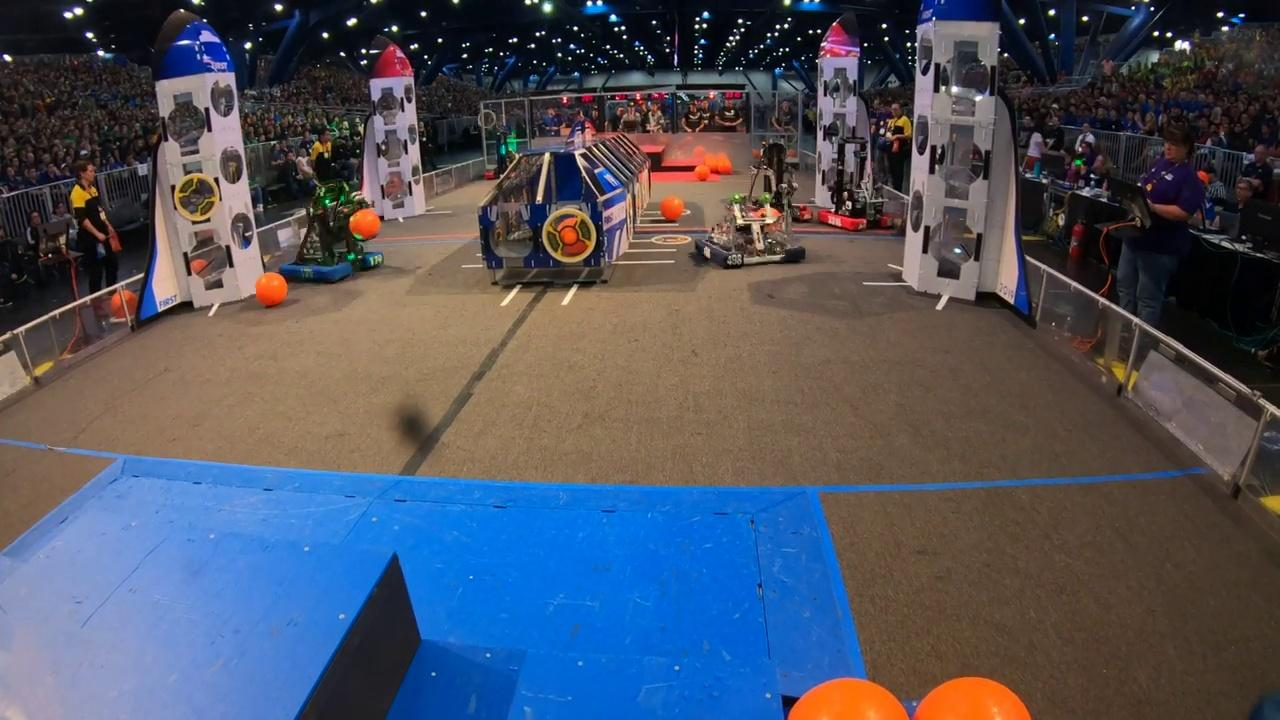robot: (275, 179, 386, 285), (691, 190, 809, 268), (813, 135, 900, 233)
